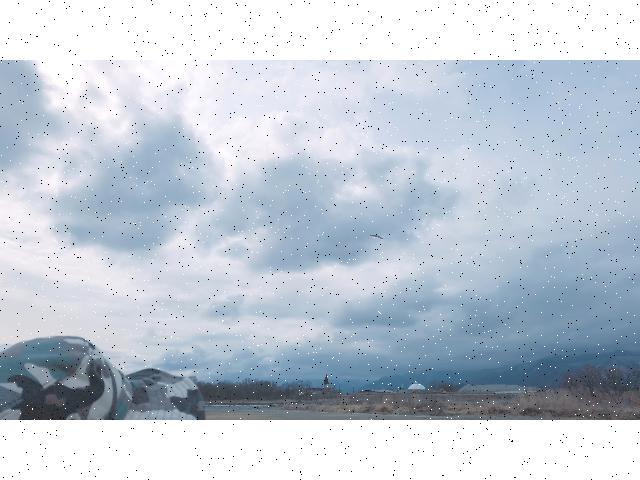Anti-Drone: (368, 230, 384, 242)
